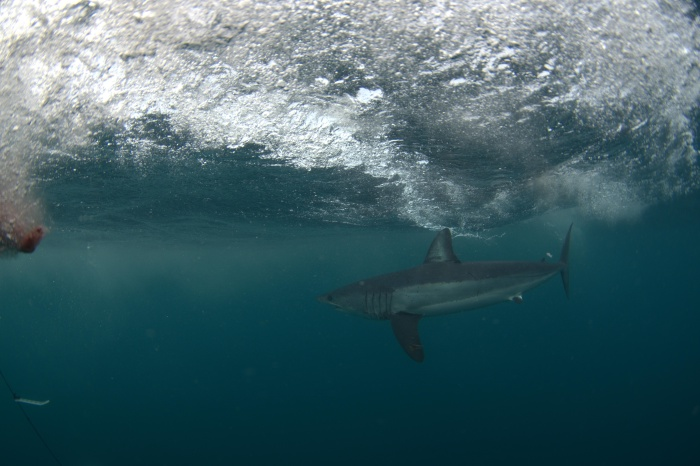Mako: (314, 216, 594, 366)
